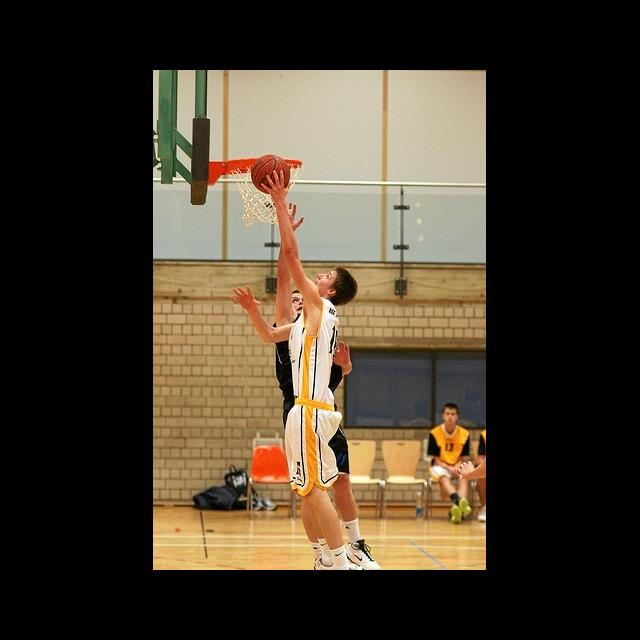basketball: (253, 156, 291, 194)
hoop: (230, 156, 306, 225)
